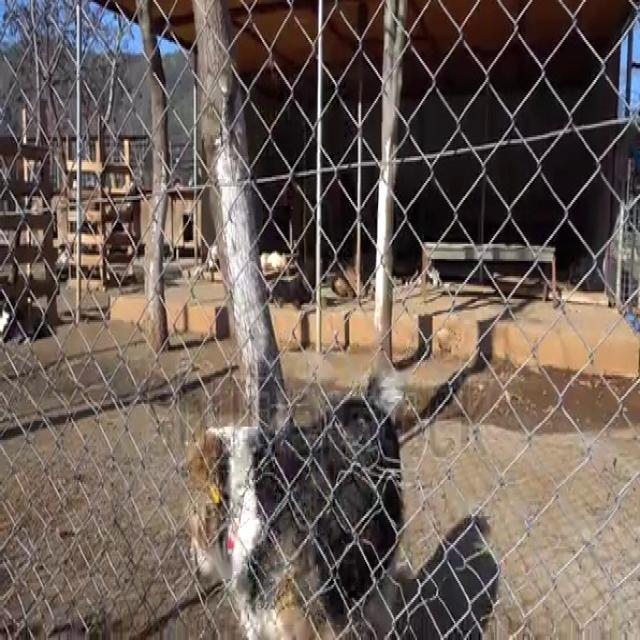normal_animals: (182, 377, 502, 634)
